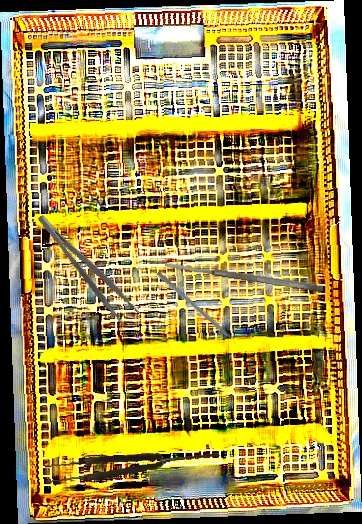Dressing Forceps: (34, 205, 141, 328)
Pusher: (155, 270, 244, 352)
Spatula Surgical: (164, 259, 324, 294)
Tissue Forceps: (44, 443, 221, 486)
